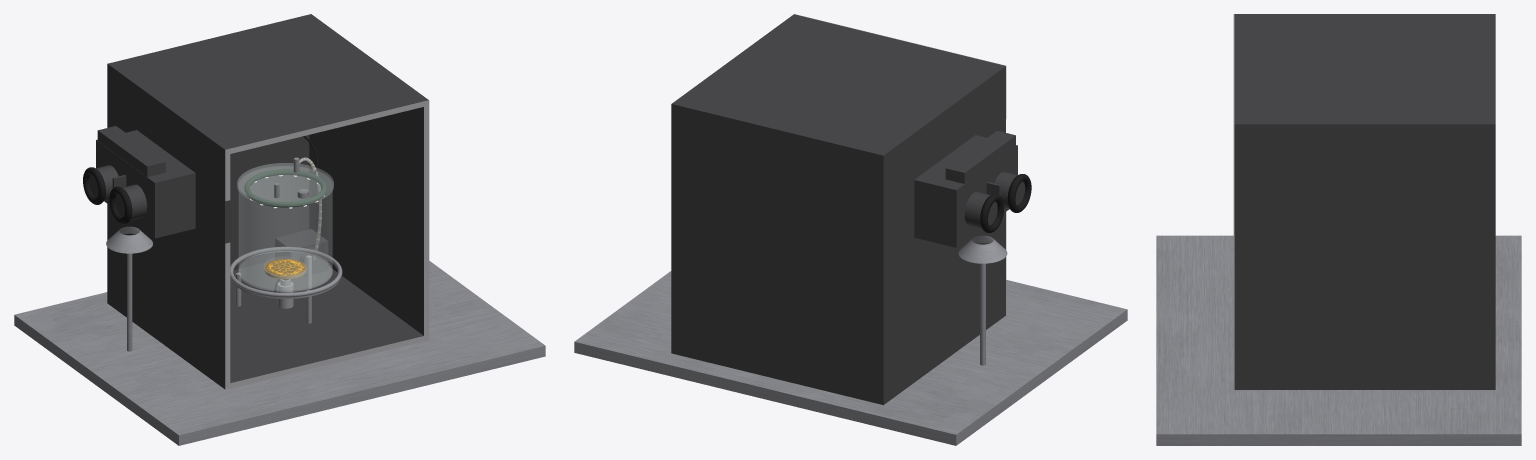
The model's file is agrypnia_interior.glb.
3 views of the same model, side by side, from view 1: azimuth 30°, elevation 25°; view 2: azimuth 150°, elevation 25°; view 3: azimuth 270°, elevation 25° (orthographic). The views are drawn at different scales.
Visible parts, largest first — view 1: carcasa, cubierta_carro, vidrio, visor, cantos, soporte, mentonera, bomba, visor_gomas, anillo_pcb, cultivo; view 2: carcasa, cubierta_carro, visor, mentonera, visor_gomas; view 3: carcasa, cubierta_carro, cantos.
Part boxes in pixels (x1,y1,x2,y2): carcasa: (107,14,428,389); cubierta_carro: (14,261,545,445); vidrio: (237,163,333,291); visor: (89,126,195,238); cantos: (225,100,429,389); soporte: (230,246,342,323); mentonera: (106,226,152,351); bomba: (275,229,328,279); visor_gomas: (83,167,132,224); anillo_pcb: (244,169,326,207); cultivo: (265,259,306,276); carcasa: (671,14,1005,404); cubierta_carro: (574,271,1127,445); visor: (914,130,1025,247); mentonera: (958,235,1007,365); visor_gomas: (980,174,1031,232); carcasa: (1234,14,1495,389); cubierta_carro: (1156,235,1521,445); cantos: (1233,14,1234,389).
Bounding box in the file's own units: 0.9 × 0.587 × 0.7.
15 materials, 3 textured.
